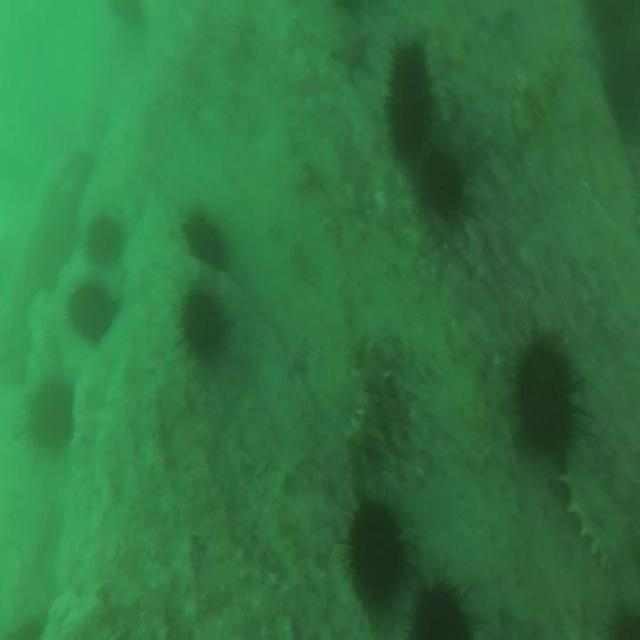echinus: (517, 340, 575, 455), (348, 501, 404, 599), (386, 43, 431, 147), (407, 588, 469, 637), (180, 291, 222, 357), (30, 386, 72, 447), (422, 152, 463, 213), (70, 285, 115, 338), (182, 218, 226, 262), (84, 220, 122, 268)
holothurian: (560, 460, 636, 572), (344, 327, 392, 452), (426, 24, 457, 117)
